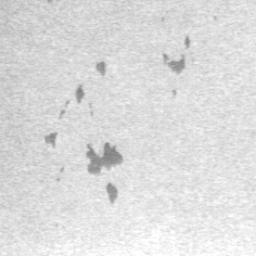Iron scale compression: (86, 144, 123, 175), (161, 53, 185, 75), (106, 182, 118, 206), (58, 100, 71, 120), (74, 84, 85, 104), (44, 132, 57, 148), (94, 61, 106, 77), (184, 37, 190, 49)
